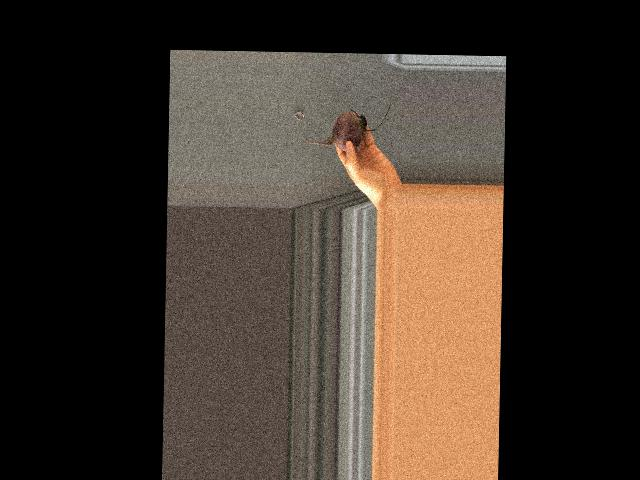beet: (300, 94, 391, 152)
